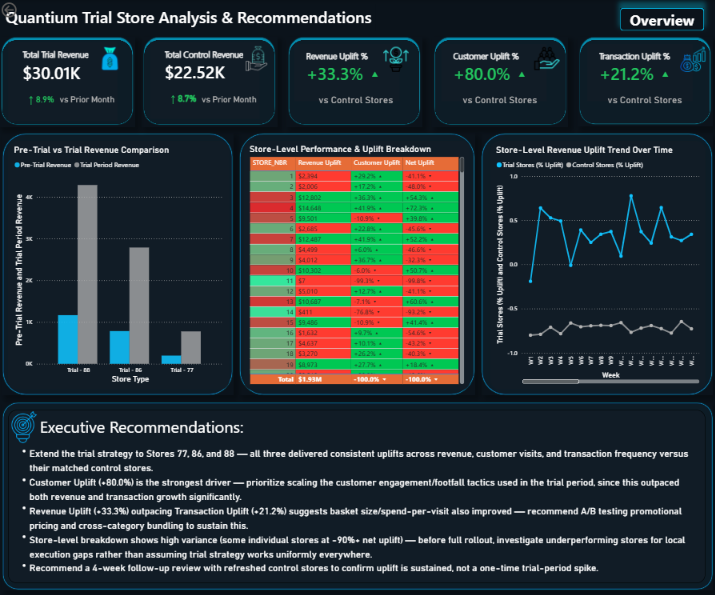

This screenshot's page, from the dashboard's own definition file:
{"tool":"powerbi","page":{"name":"Trial Analysis","canvas":[1440,1200],"ordinal":1},"visuals":[{"type":"shape","box":[6.9,267.9,464.4,527.6],"z":0},{"type":"shape","box":[576.7,74.8,273.9,181],"z":1000},{"type":"cardVisual","fields":{"Data":["Fact_Transactions.Revenue Uplift %"]},"box":[592.6,87.6,211.9,115.1],"z":4000},{"type":"textbox","box":[7.2,8.4,593.6,54.3],"z":5000},{"type":"textbox","box":[7.2,8.4,749.2,54.3],"z":6000},{"type":"actionButton","box":[1248,17,168.8,45.8],"z":7000},{"type":"shape","box":[1161.6,75.3,272.9,180.2],"z":8000},{"type":"shape","box":[869.8,74.8,273.9,181],"z":9000},{"type":"shape","box":[284.7,74.8,273.9,181],"z":10000},{"type":"shape","box":[0,74.8,273.9,181],"z":11000},{"type":"cardVisual","fields":{"Data":["Fact_Transactions.Total Control Revenue"]},"box":[303.5,85,219.8,154.4],"z":12000},{"type":"cardVisual","fields":{"Data":["Fact_Transactions.Total Trial Revenue"]},"box":[18.3,85,219.8,158.3],"z":13000},{"type":"textbox","box":[638.4,184.4,160.9,35.3],"z":14000},{"type":"textbox","box":[401.6,184.4,121.7,35.3],"z":15000},{"type":"textbox","box":[116.4,184.4,121.7,35.3],"z":16000},{"type":"cardVisual","fields":{"Data":["Fact_Transactions.Transaction Uplift %"]},"box":[1182.6,87.6,211.9,115.1],"z":17000},{"type":"cardVisual","fields":{"Data":["Fact_Transactions.Customer Uplift %"]},"box":[889.5,87.6,211.9,115.1],"z":18000},{"type":"textbox","box":[926.2,184.4,160.9,35.3],"z":19000},{"type":"textbox","box":[1217.9,184.4,160.9,35.3],"z":20000},{"type":"image","box":[1368.3,91.6,51,53.6],"z":21000},{"type":"image","box":[491.9,90.3,49.7,54.9],"z":22000},{"type":"image","box":[773.1,91.6,51,53.6],"z":23000},{"type":"image","box":[1075.3,90.3,51,54.9],"z":24000},{"type":"image","box":[197.5,90.3,51,54.9],"z":25000},{"type":"shape","box":[482.3,267.9,474,527.6],"z":26000},{"type":"shape","box":[968.7,267.9,465.8,527.6],"z":27000},{"type":"clusteredColumnChart","title":"Pre-Trial vs Trial Revenue Comparison","fields":{"Category":["Fact_Transactions.Store_Type"],"Y":["Fact_Transactions.Pre-Trial Revenue","Fact_Transactions.Trial Period Revenue"]},"box":[17.9,284.4,445.2,500.1],"z":28000},{"type":"lineChart","title":"Store-Level Revenue Uplift Trend Over Time","fields":{"Y":["Fact_Transactions.Trial Stores (% Uplift)","Fact_Transactions.Control Stores (% Uplift)"],"Category":["Dim_Date.Week_Label"]},"box":[986.5,284.4,432.8,500.1],"z":29000},{"type":"tableEx","title":"Store-Level Performance & Uplift Breakdown","fields":{"Values":["Fact_Transactions.STORE_NBR","Store_Summary_Table.Store Dynamic Revenue Uplift","Store_Summary_Table.Store Dynamic Customer Uplift","Store_Summary_Table.Store Dynamic Net Uplift"]},"box":[491.9,284.4,453.4,500.1],"z":30000},{"type":"actionButton","box":[0,0,100,40],"z":31000},{"type":"shape","box":[6,808.3,1429.6,378],"z":31001},{"type":"textbox","box":[18.1,824.4,1401.5,347.9],"z":31002},{"type":"image","box":[18.1,824.4,64.3,68.4],"z":31003}]}

Visuals, with their boxes in screenshot pixels (x1, y1, x2, y2), scaled from the page's 1440x1200 canvas onto the 715x595 screenshot:
shape: box(3, 133, 234, 394)
shape: box(286, 37, 422, 127)
cardVisual - Fact_Transactions.Revenue Uplift %: box(294, 43, 399, 101)
textbox: box(4, 4, 298, 31)
textbox: box(4, 4, 376, 31)
actionButton: box(620, 8, 703, 31)
shape: box(577, 37, 712, 127)
shape: box(432, 37, 568, 127)
shape: box(141, 37, 277, 127)
shape: box(0, 37, 136, 127)
cardVisual - Fact_Transactions.Total Control Revenue: box(151, 42, 260, 119)
cardVisual - Fact_Transactions.Total Trial Revenue: box(9, 42, 118, 121)
textbox: box(317, 91, 397, 109)
textbox: box(199, 91, 260, 109)
textbox: box(58, 91, 118, 109)
cardVisual - Fact_Transactions.Transaction Uplift %: box(587, 43, 692, 101)
cardVisual - Fact_Transactions.Customer Uplift %: box(442, 43, 547, 101)
textbox: box(460, 91, 540, 109)
textbox: box(605, 91, 685, 109)
image: box(679, 45, 705, 72)
image: box(244, 45, 269, 72)
image: box(384, 45, 409, 72)
image: box(534, 45, 559, 72)
image: box(98, 45, 123, 72)
shape: box(239, 133, 475, 394)
shape: box(481, 133, 712, 394)
"Pre-Trial vs Trial Revenue Comparison" clusteredColumnChart: box(9, 141, 230, 389)
"Store-Level Revenue Uplift Trend Over Time" lineChart: box(490, 141, 705, 389)
"Store-Level Performance & Uplift Breakdown" tableEx: box(244, 141, 469, 389)
actionButton: box(0, 0, 50, 20)
shape: box(3, 401, 713, 588)
textbox: box(9, 409, 705, 581)
image: box(9, 409, 41, 443)
